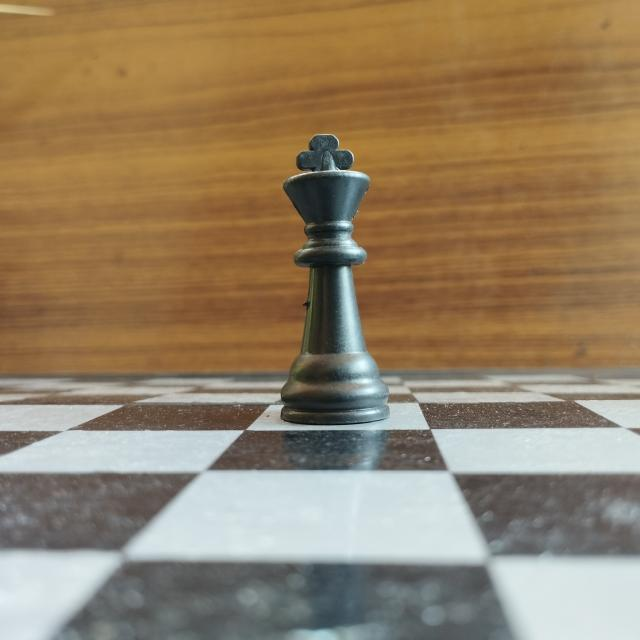Black King: (266, 124, 407, 426)
